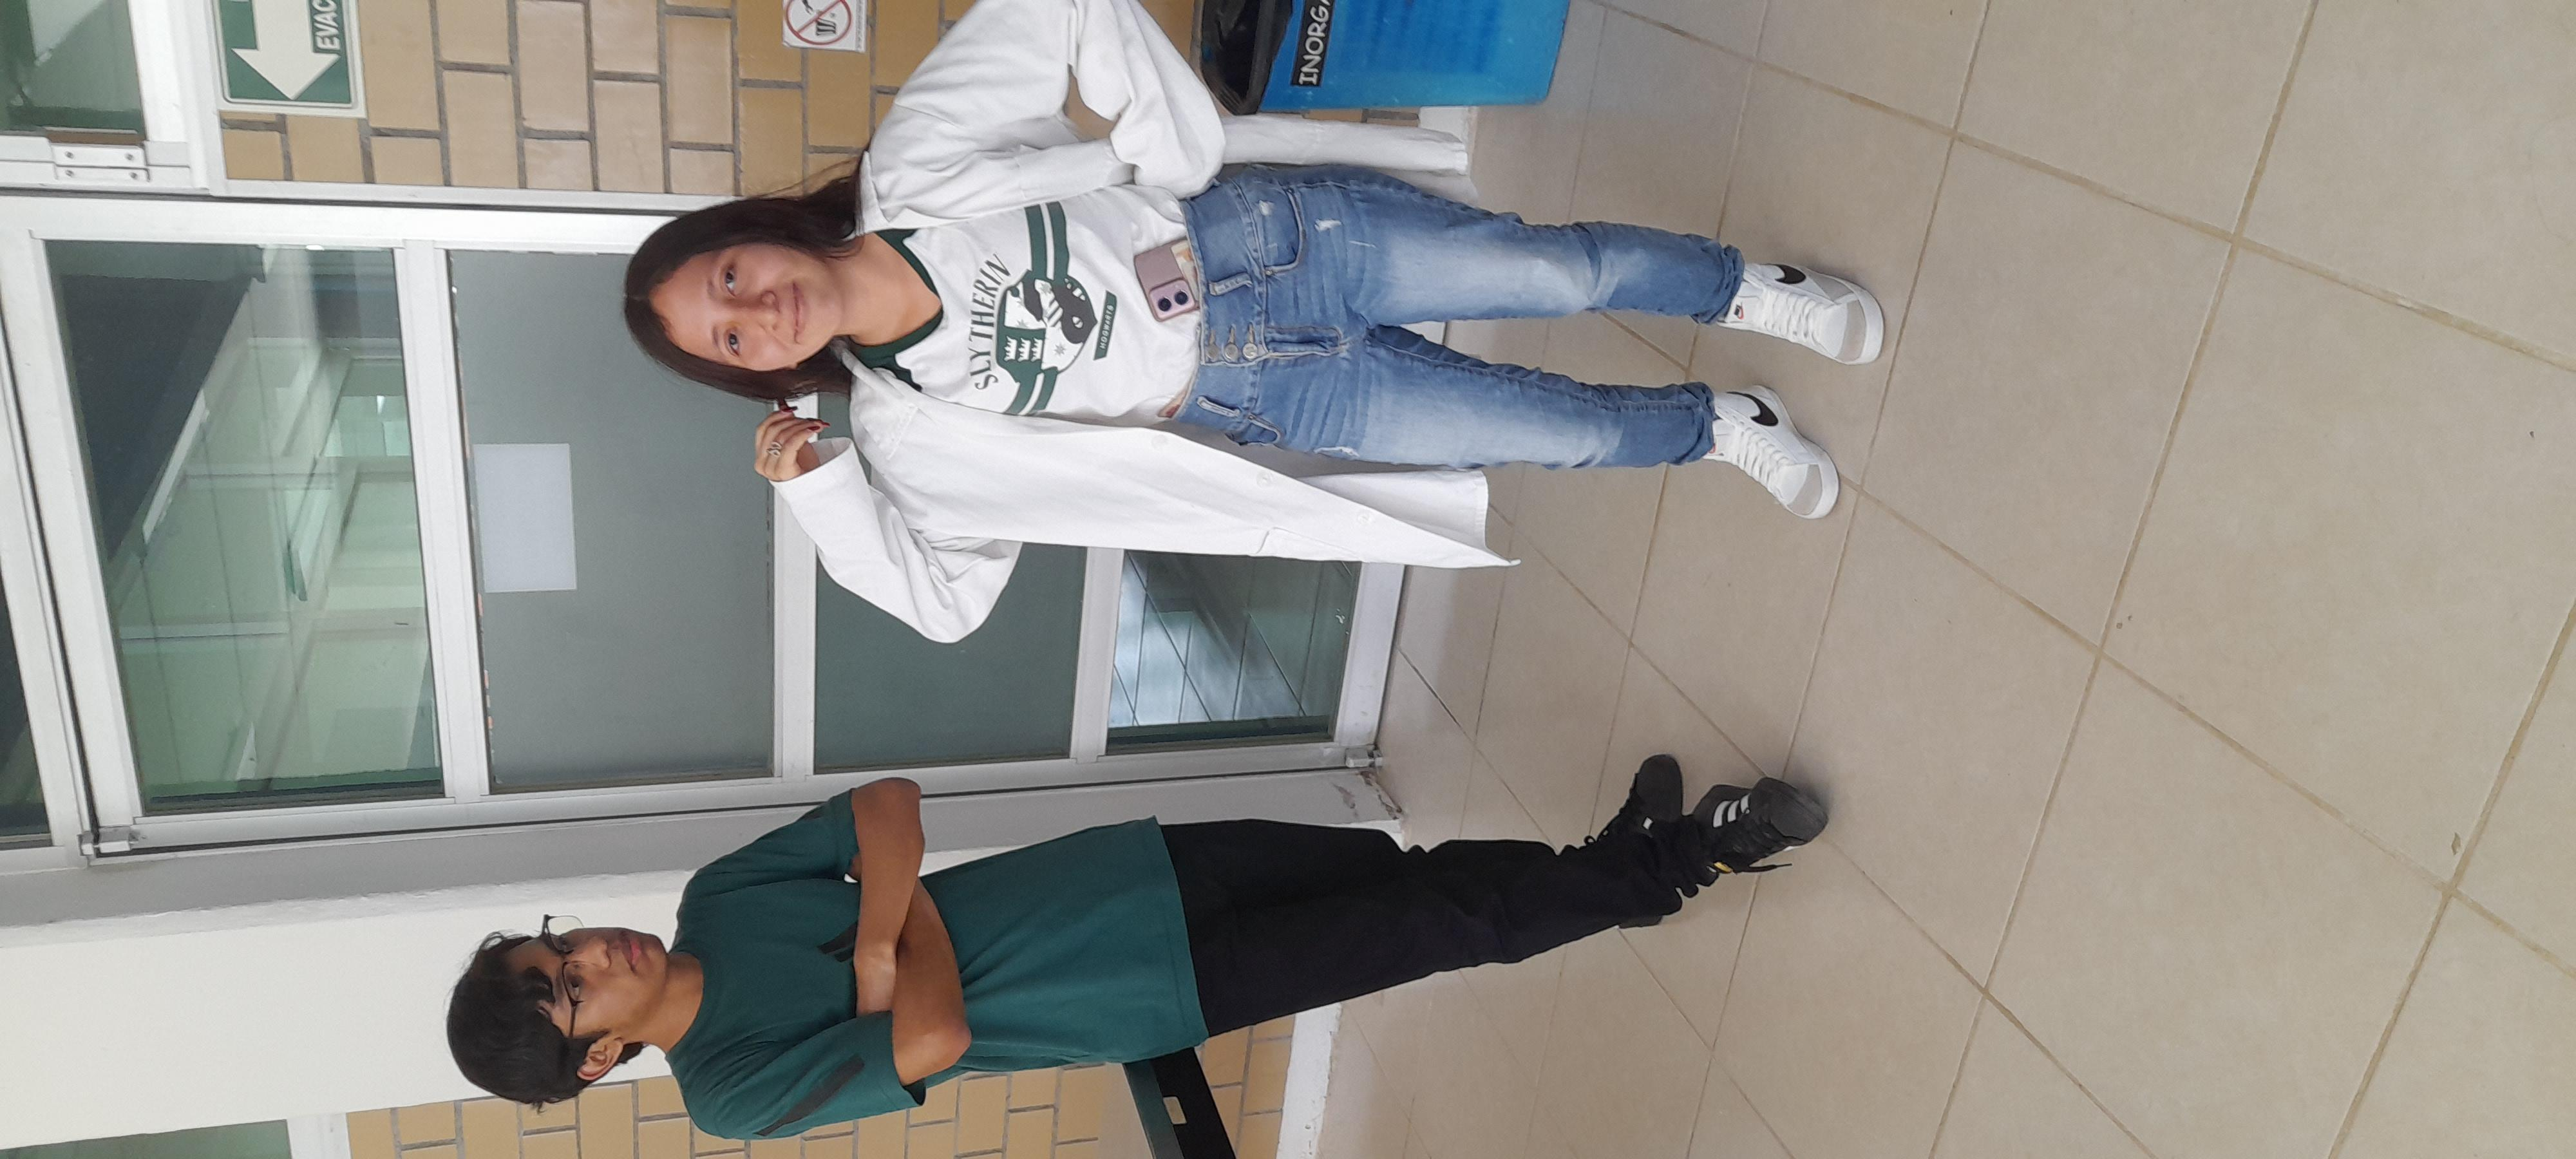Bata-Incorrecta: (1009, 248, 2576, 860)
